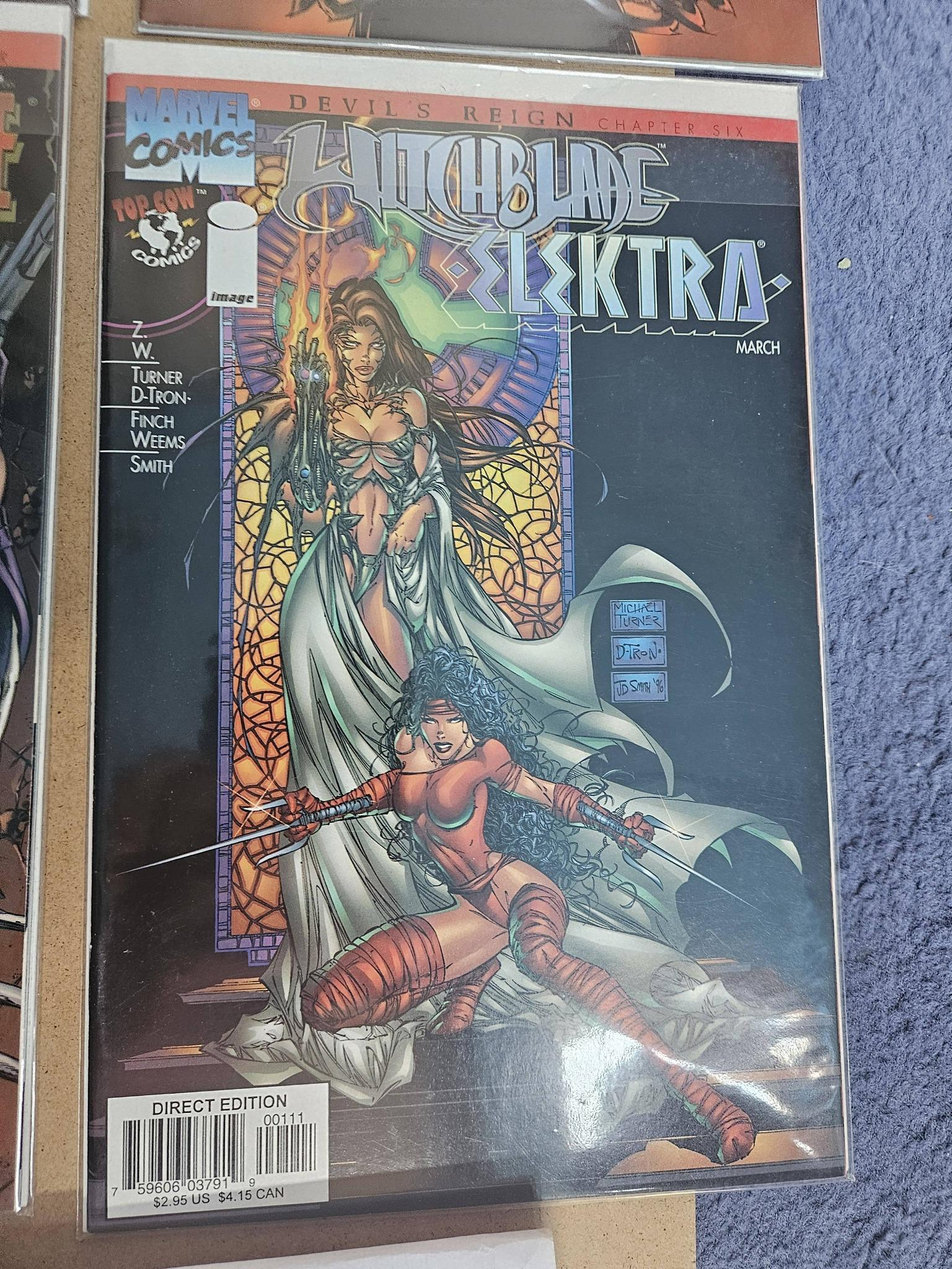comic: (88, 43, 849, 1231)
